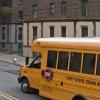Bus: (25, 32, 98, 100)
